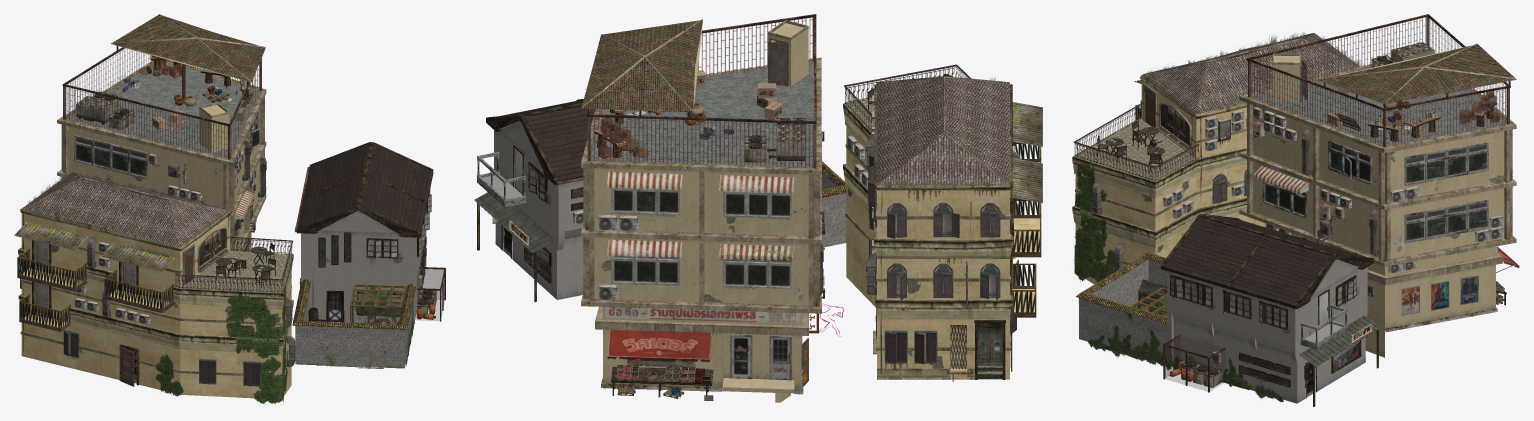
File: city2.glb
The picture shows the model from 3 angles, left to right: view 1: azimuth 30°, elevation 25°; view 2: azimuth 150°, elevation 25°; view 3: azimuth 270°, elevation 25°; orthographic projection. The views are drawn at different scales.
Visible parts, largest first — view 1: GroceryStore, Hotel_Wall Mat_0, Hotel_TileableOneDir Mat_0, Hotel_Roof Mat_0, TattooShop_Roof_MAT_0, TattooShop_Walls_MAT_0, Hotel_Decals_TEX_0, Hotel_Unique Mat_0, TattooShop_TileableOneDir_MAT_0, TattooShop_Brick_MAT_0, Hotel_Opacity Mat_0, Hotel_Floor Mat_0 (+7 smaller); view 2: GroceryStore, Hotel_TileableOneDir Mat_0, Hotel_Wall Mat_0, Hotel_Roof Mat_0, Hotel_Unique Mat_0, TattooShop_Walls_MAT_0, Hotel_Opacity Mat_0, TattooShop_TileableOneDir_MAT_0, TattooShop_Roof_MAT_0, TattooShop_ExtraRoofs_MAT_0, TattooShop_Unique_MAT_0, TattooShop_Brick_MAT_0 (+2 smaller); view 3: GroceryStore, TattooShop_Walls_MAT_0, TattooShop_Roof_MAT_0, Hotel_TileableOneDir Mat_0, Hotel_Wall Mat_0, Hotel_Roof Mat_0, TattooShop_TileableOneDir_MAT_0, TattooShop_Brick_MAT_0, Hotel_Decals_TEX_0, TattooShop_Unique_MAT_0, TattooShop_Decals_TEX_0 (×2), TattooShop_Opacity_MAT_0 (+8 smaller).
Boxes of the visible parts, box(x1,y1,x2,y2) form: GroceryStore: box(57, 14, 266, 251); Hotel_Wall Mat_0: box(21, 209, 291, 398); Hotel_TileableOneDir Mat_0: box(14, 173, 293, 386); Hotel_Roof Mat_0: box(22, 172, 229, 246); TattooShop_Roof_MAT_0: box(297, 143, 433, 234); TattooShop_Walls_MAT_0: box(301, 211, 426, 324); Hotel_Decals_TEX_0: box(26, 171, 291, 403); Hotel_Unique Mat_0: box(20, 229, 295, 386); TattooShop_TileableOneDir_MAT_0: box(294, 142, 445, 322); TattooShop_Brick_MAT_0: box(295, 296, 413, 368); Hotel_Opacity Mat_0: box(18, 224, 292, 359); Hotel_Floor Mat_0: box(181, 251, 291, 292); GroceryStore: box(581, 14, 844, 402); Hotel_TileableOneDir Mat_0: box(843, 64, 1042, 379); Hotel_Wall Mat_0: box(846, 126, 1039, 379); Hotel_Roof Mat_0: box(877, 78, 1009, 184); Hotel_Unique Mat_0: box(865, 134, 1020, 381); TattooShop_Walls_MAT_0: box(482, 121, 583, 299); Hotel_Opacity Mat_0: box(845, 67, 1039, 369); TattooShop_TileableOneDir_MAT_0: box(477, 99, 583, 302); TattooShop_Roof_MAT_0: box(496, 100, 595, 180); TattooShop_ExtraRoofs_MAT_0: box(474, 161, 846, 253); TattooShop_Unique_MAT_0: box(492, 148, 583, 270); TattooShop_Brick_MAT_0: box(821, 173, 846, 247); GroceryStore: box(1239, 14, 1519, 357); TattooShop_Walls_MAT_0: box(1167, 259, 1367, 403); TattooShop_Roof_MAT_0: box(1160, 215, 1365, 305); Hotel_TileableOneDir Mat_0: box(1072, 33, 1357, 264); Hotel_Wall Mat_0: box(1075, 75, 1265, 284); Hotel_Roof Mat_0: box(1142, 33, 1359, 114); TattooShop_TileableOneDir_MAT_0: box(1130, 213, 1378, 406); TattooShop_Brick_MAT_0: box(1079, 259, 1168, 363); Hotel_Decals_TEX_0: box(1074, 32, 1363, 282); TattooShop_Unique_MAT_0: box(1142, 276, 1372, 397); TattooShop_Decals_TEX_0 (×2): box(1078, 260, 1365, 403); TattooShop_Opacity_MAT_0: box(1165, 277, 1359, 391).
Bounding box in the file's own units: 2872 × 1701 × 2435.
34 materials, 34 textured.
